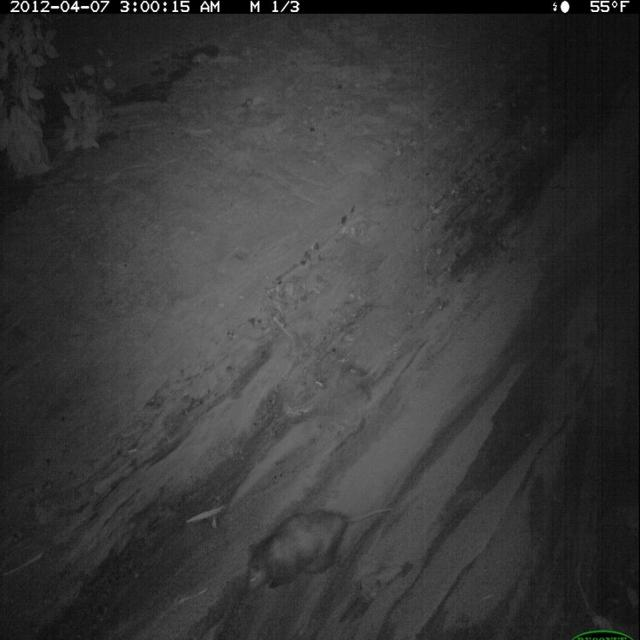opossum: (245, 501, 394, 600)
